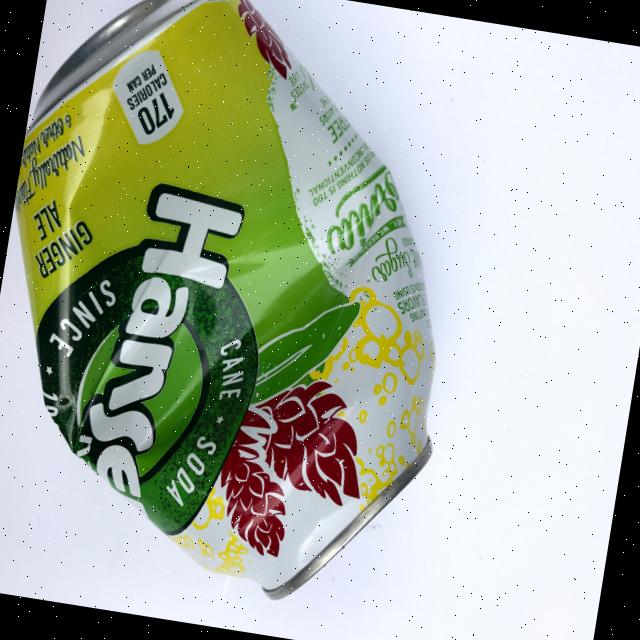metal: (0, 0, 499, 621)
